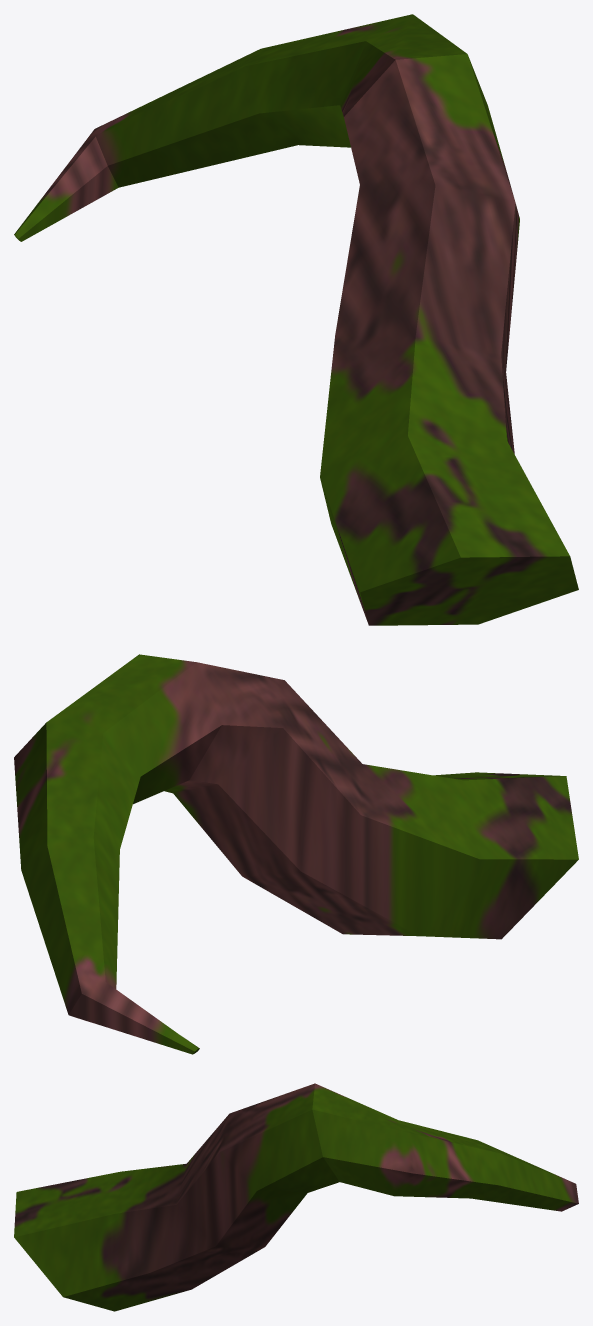
The model's file is largebranch01.fbx.
3 views of the same model, one above another, from view 1: azimuth 30°, elevation 25°; view 2: azimuth 150°, elevation 25°; view 3: azimuth 270°, elevation 25° (orthographic). The views are drawn at different scales.
Visible parts, largest first — view 1: LargeBranch01; view 2: LargeBranch01; view 3: LargeBranch01.
Boxes of the visible parts, x1,y1,x2,y2 form: LargeBranch01: (14, 14, 578, 625); LargeBranch01: (14, 654, 578, 1054); LargeBranch01: (14, 1083, 578, 1311).
Bounding box in the file's own units: 1395 × 1500 × 3038.
